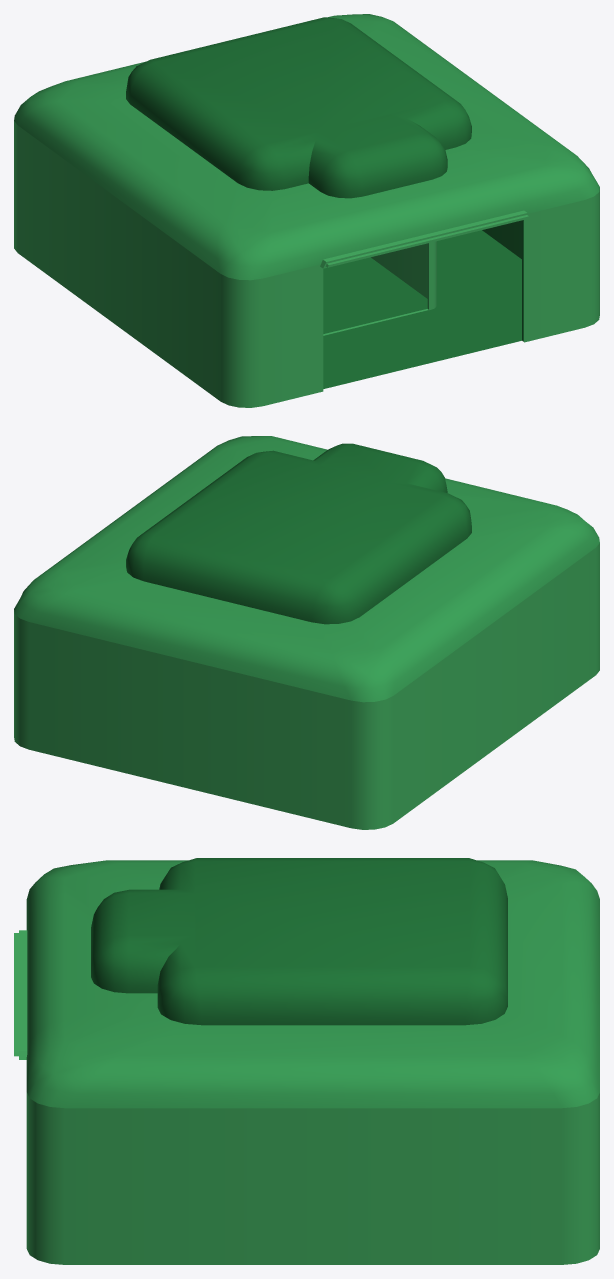
The model's file is Green-Bolge.fbx.
3 views of the same model, one above another, from view 1: azimuth 30°, elevation 25°; view 2: azimuth 150°, elevation 25°; view 3: azimuth 270°, elevation 25° (orthographic). The views are drawn at different scales.
Parts seen in each view (by area): view 1: Entry, Exit; view 2: Entry; view 3: Entry.
Boxes of the visible parts, x1,y1,x2,y2 form: Entry: [14, 14, 599, 407]; Exit: [323, 241, 436, 335]; Entry: [14, 436, 599, 829]; Entry: [14, 858, 599, 1264].
Bounding box in the file's own units: 10.79 × 5.33 × 11.88.
